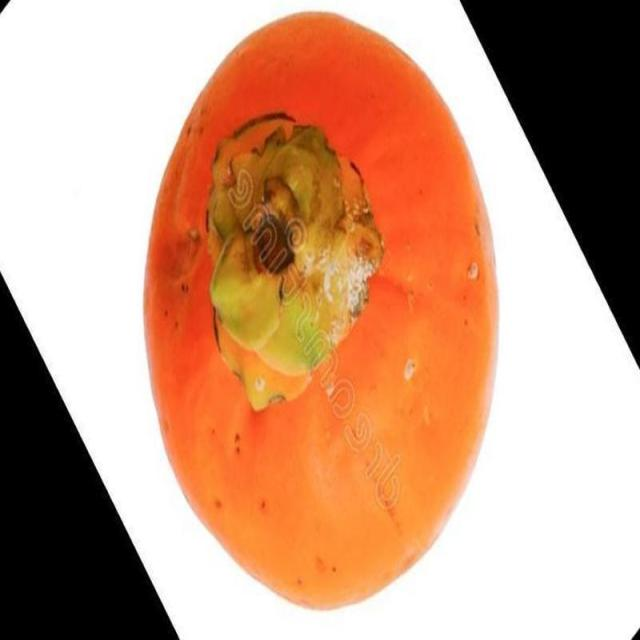good: (142, 11, 502, 614)
